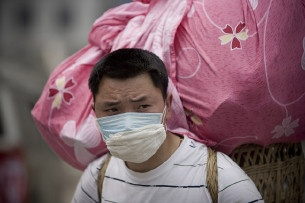Mask: (96, 95, 164, 161)
